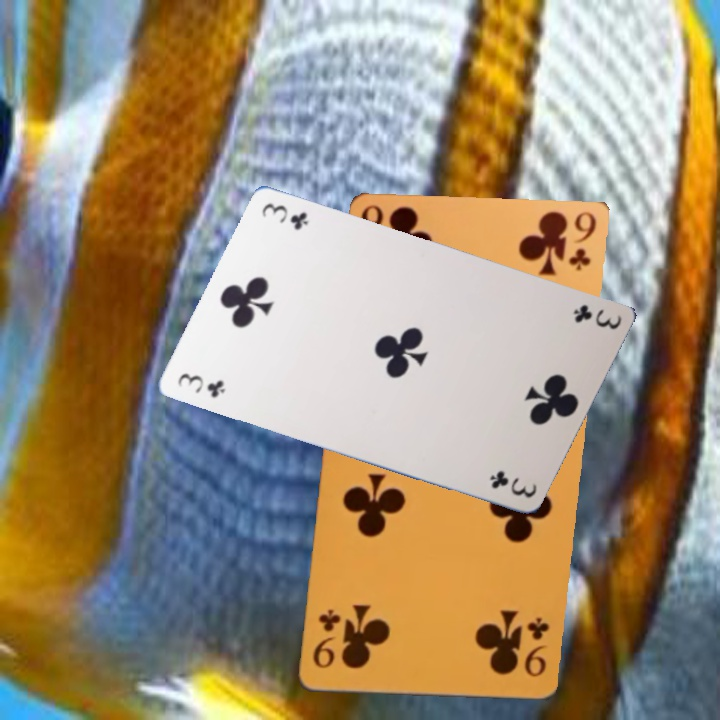3c: (475, 467, 540, 506), (251, 196, 316, 235), (561, 299, 625, 338), (166, 364, 230, 403)
9c: (308, 608, 342, 680), (519, 616, 553, 687)
